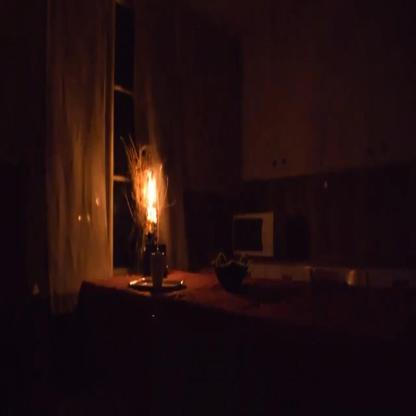fire: (142, 164, 163, 230)
